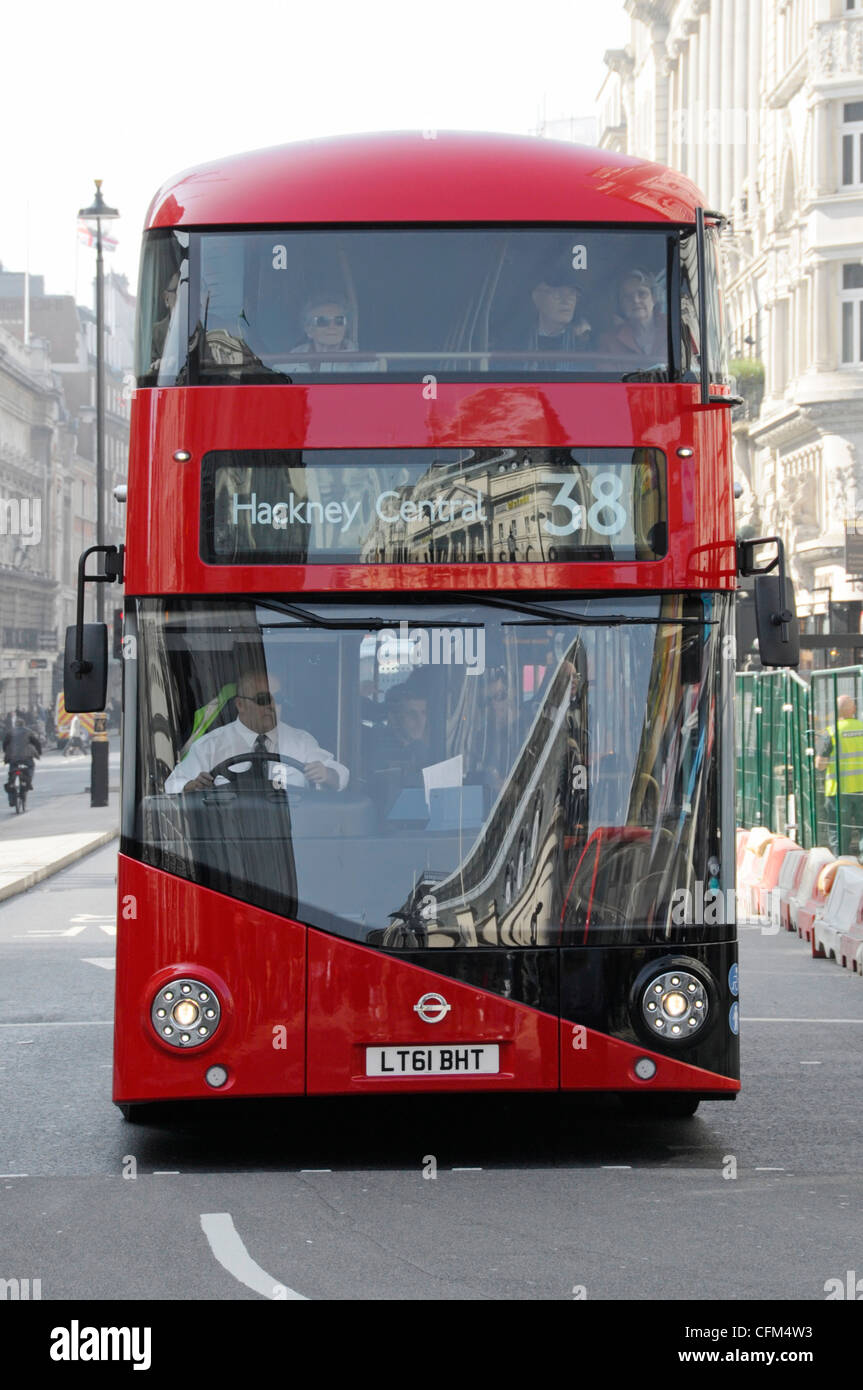red_busess: (110, 130, 741, 1122)
